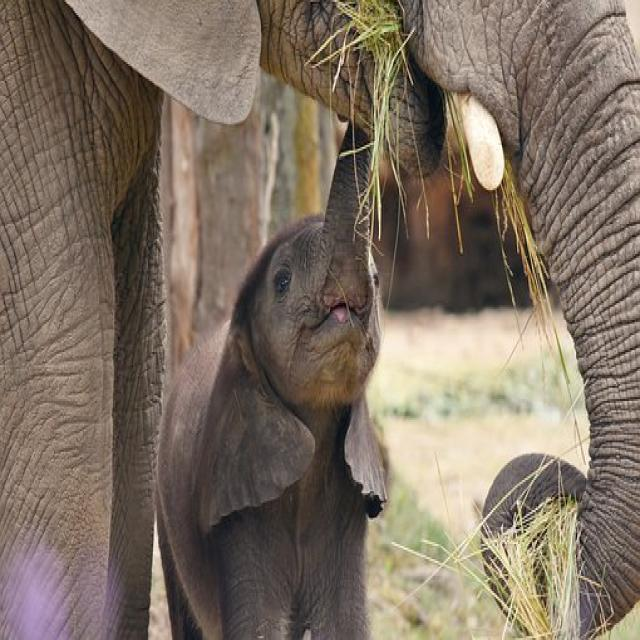Elephant: (115, 184, 445, 640)
